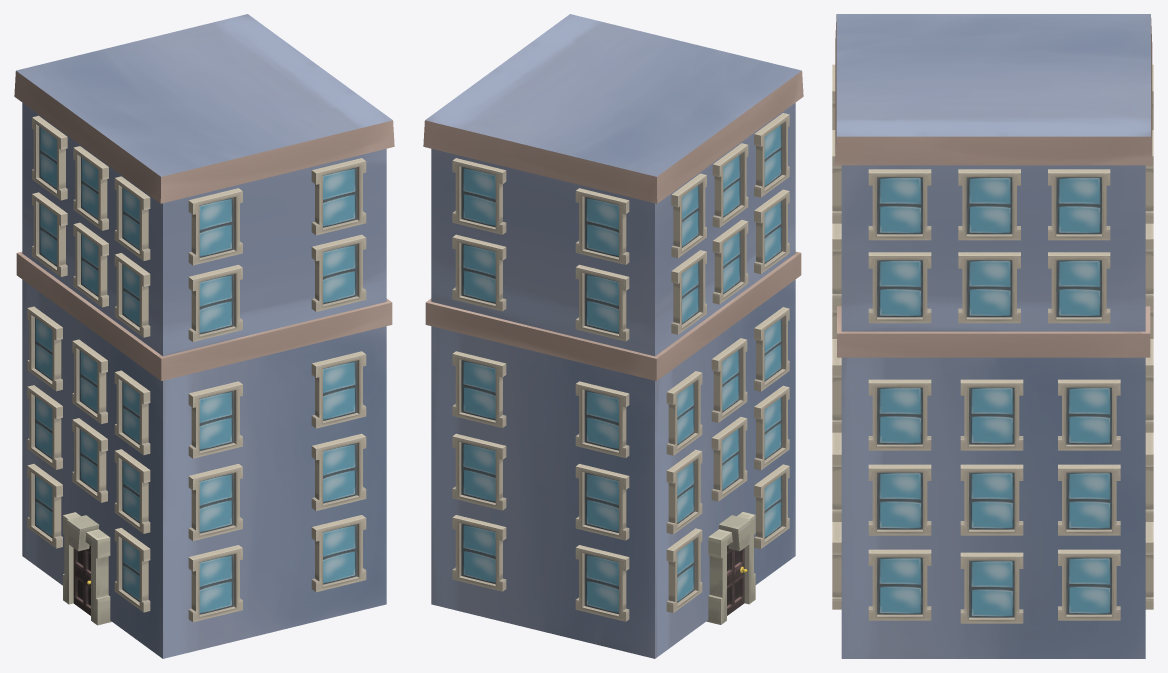
Rendered from house_1tile.fbx.
The picture shows the model from 3 angles, left to right: view 1: azimuth 30°, elevation 25°; view 2: azimuth 150°, elevation 25°; view 3: azimuth 270°, elevation 25°; orthographic projection. The views are drawn at different scales.
Visible parts, largest first — view 1: Box343, Box341, Box266, Box246, Box264, Box279, Box345, Box247, Box254, Box267, Box278, Box344 (+14 smaller); view 2: Box343, Box341, Box255, Box263, Box248, Box249, Box259, Box339, Box282, Box258, Box271, Box346 (+14 smaller); view 3: Box343, Box253, Box245, Box250, Box252, Box257, Box268, Box325, Box342, Box262, Box260, Box261 (+14 smaller).
Part boxes in pixels (bbox=[...]): Box343: bbox=[14, 14, 394, 658]; Box341: bbox=[63, 512, 111, 625]; Box266: bbox=[188, 381, 242, 458]; Box246: bbox=[188, 264, 242, 341]; Box264: bbox=[188, 188, 242, 265]; Box279: bbox=[188, 464, 242, 540]; Box345: bbox=[188, 545, 242, 622]; Box247: bbox=[311, 351, 366, 428]; Box254: bbox=[311, 433, 366, 510]; Box267: bbox=[311, 234, 366, 311]; Box278: bbox=[311, 158, 366, 235]; Box344: bbox=[311, 515, 366, 592]; Box343: bbox=[423, 14, 803, 658]; Box341: bbox=[706, 512, 755, 624]; Box255: bbox=[575, 381, 629, 458]; Box263: bbox=[452, 234, 506, 311]; Box248: bbox=[575, 464, 629, 540]; Box249: bbox=[452, 433, 506, 510]; Box259: bbox=[452, 351, 506, 427]; Box339: bbox=[452, 515, 506, 591]; Box282: bbox=[575, 264, 629, 341]; Box258: bbox=[575, 188, 629, 264]; Box271: bbox=[452, 158, 506, 234]; Box346: bbox=[575, 545, 629, 621]; Box343: bbox=[835, 14, 1152, 658]; Box253: bbox=[868, 252, 931, 323]; Box245: bbox=[960, 464, 1023, 535]; Box250: bbox=[868, 169, 931, 240]; Box252: bbox=[960, 379, 1023, 450]; Box257: bbox=[868, 379, 931, 450]; Box268: bbox=[868, 464, 931, 535]; Box325: bbox=[960, 552, 1023, 623]; Box342: bbox=[868, 549, 931, 620]; Box262: bbox=[1048, 252, 1110, 323]; Box260: bbox=[1048, 169, 1110, 240]; Box261: bbox=[958, 252, 1020, 323].
Bounding box in the file's own units: 608 × 1130 × 624.
